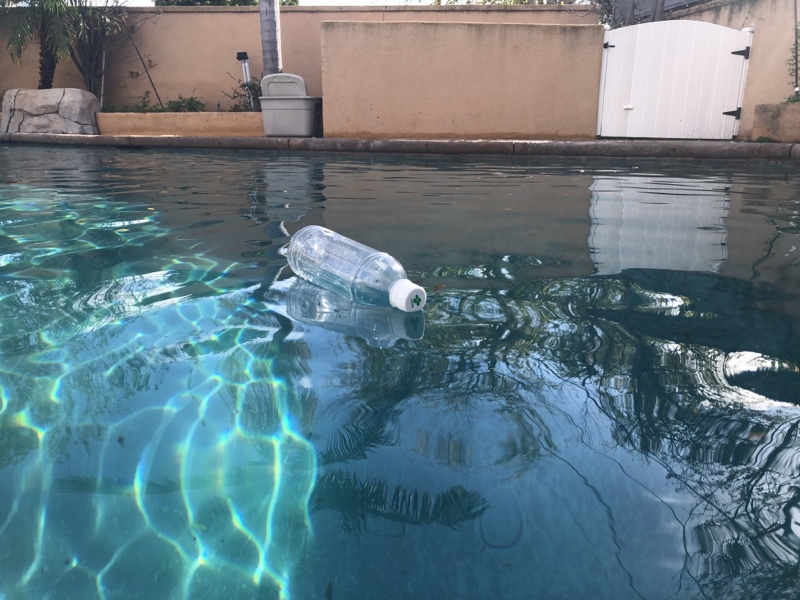Plastic Bottle: (281, 219, 433, 318)
